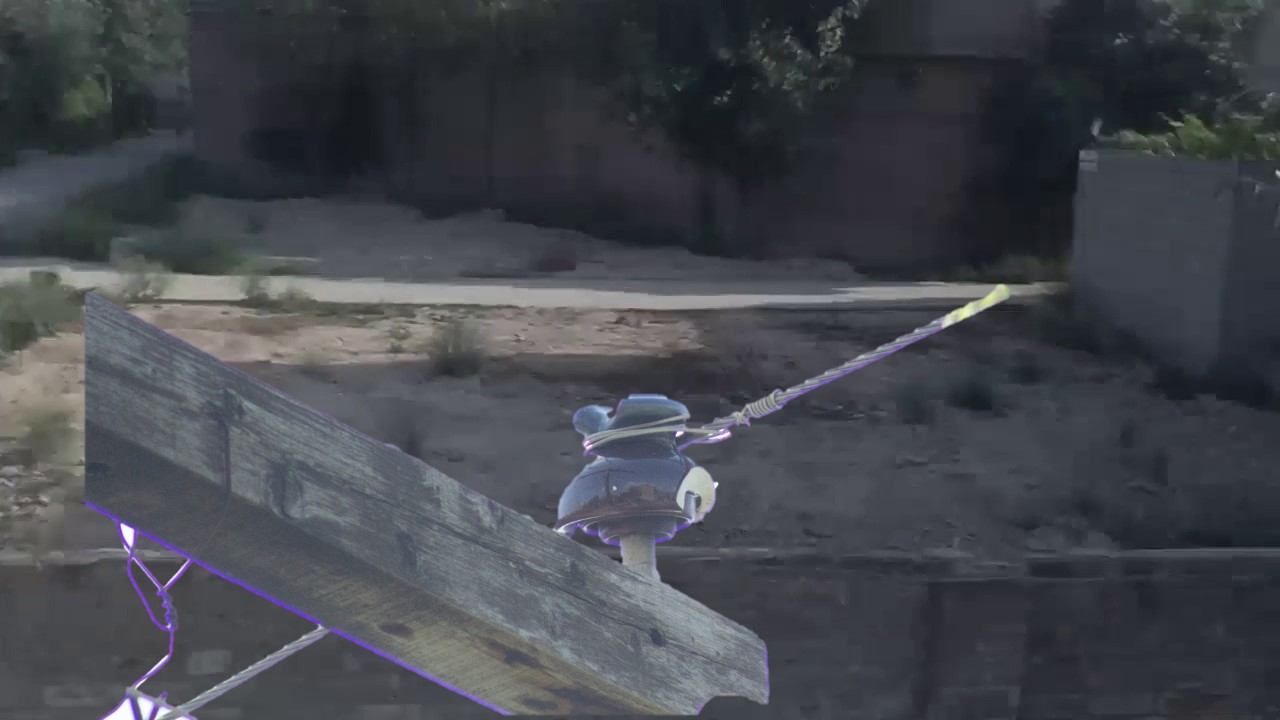defect_pin: (547, 385, 725, 553)
